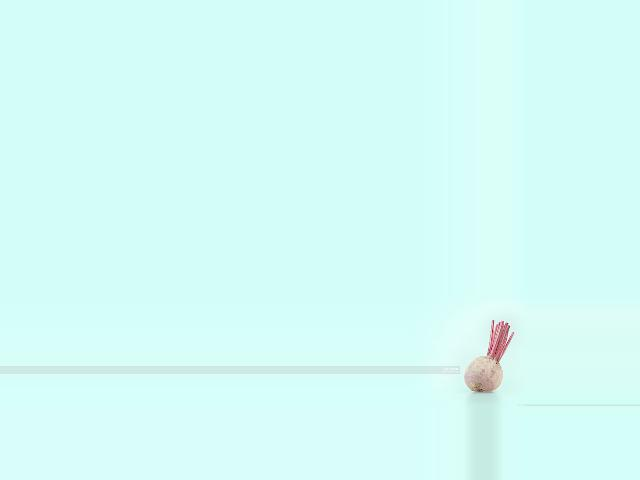beet: (463, 320, 513, 392)
